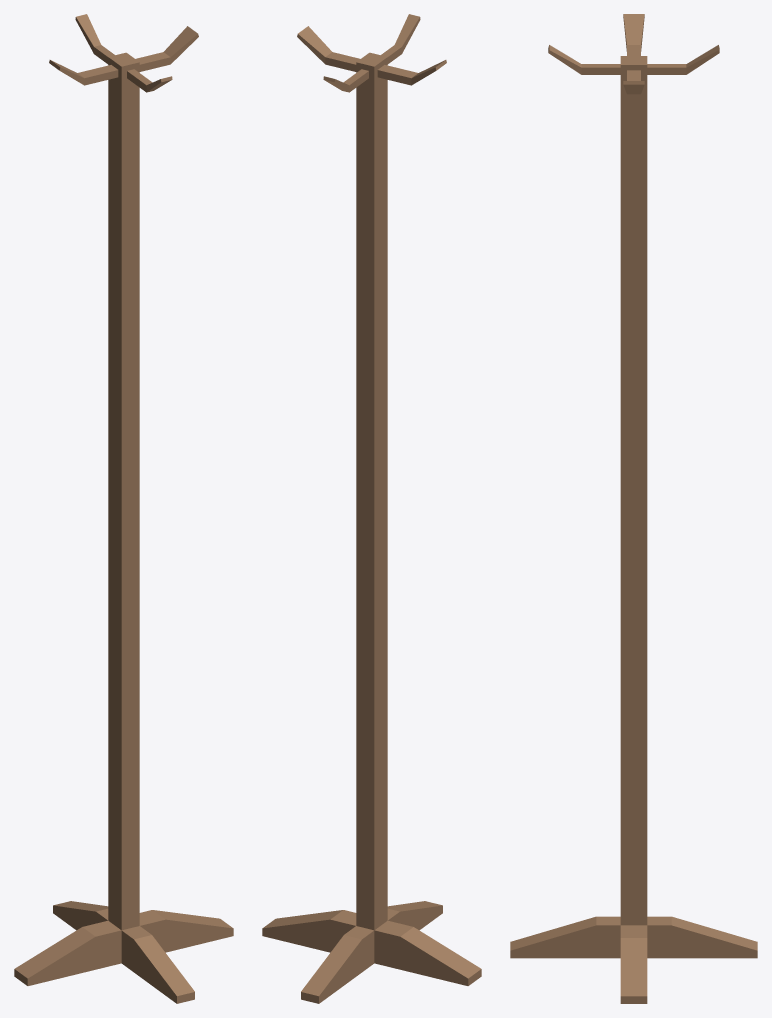
File: hanger.fbx
3 views of the same model, side by side, from view 1: azimuth 30°, elevation 25°; view 2: azimuth 150°, elevation 25°; view 3: azimuth 270°, elevation 25° (orthographic).
Parts seen in each view (by area): view 1: Cube.377; view 2: Cube.377; view 3: Cube.377.
Boxes of the visible parts, <box> form: Cube.377: <box>14,14,233,1003</box>; Cube.377: <box>262,14,481,1003</box>; Cube.377: <box>510,14,757,1003</box>.
Bounding box in the file's own units: 35.51 × 150 × 37.09.
